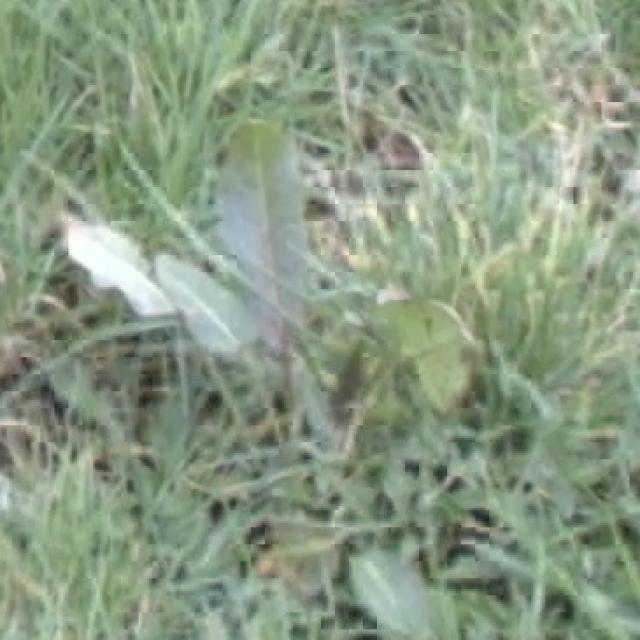organic waste: (38, 109, 324, 407), (326, 236, 514, 446), (298, 493, 435, 640)
